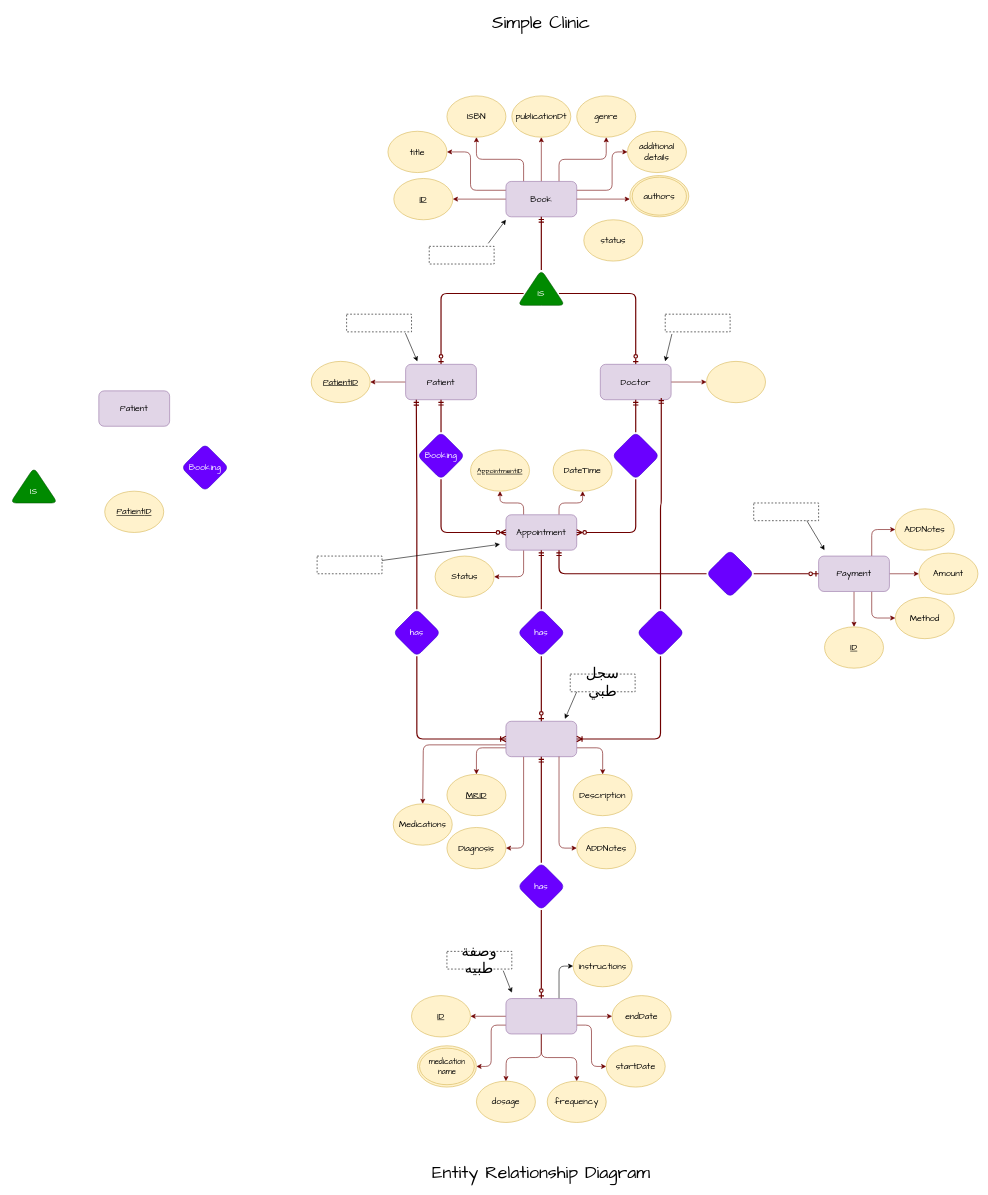
This 988x1195 diagram has some shape labels left out. Each missing label, with the centre of its shape:
"Do" belongs at point (660, 632).
"DoctorID" belongs at point (736, 382).
"Medical Record" belongs at point (541, 739).
"pay" belongs at point (730, 573).
"Prescription" belongs at point (541, 1016).
"Receive" belongs at point (635, 455).
"المدفوعات" belongs at point (786, 511).
"دكتور" belongs at point (697, 323).
"كتاب" belongs at point (461, 255).
"مريض" belongs at point (379, 323).
"موعد" belongs at point (349, 564).
